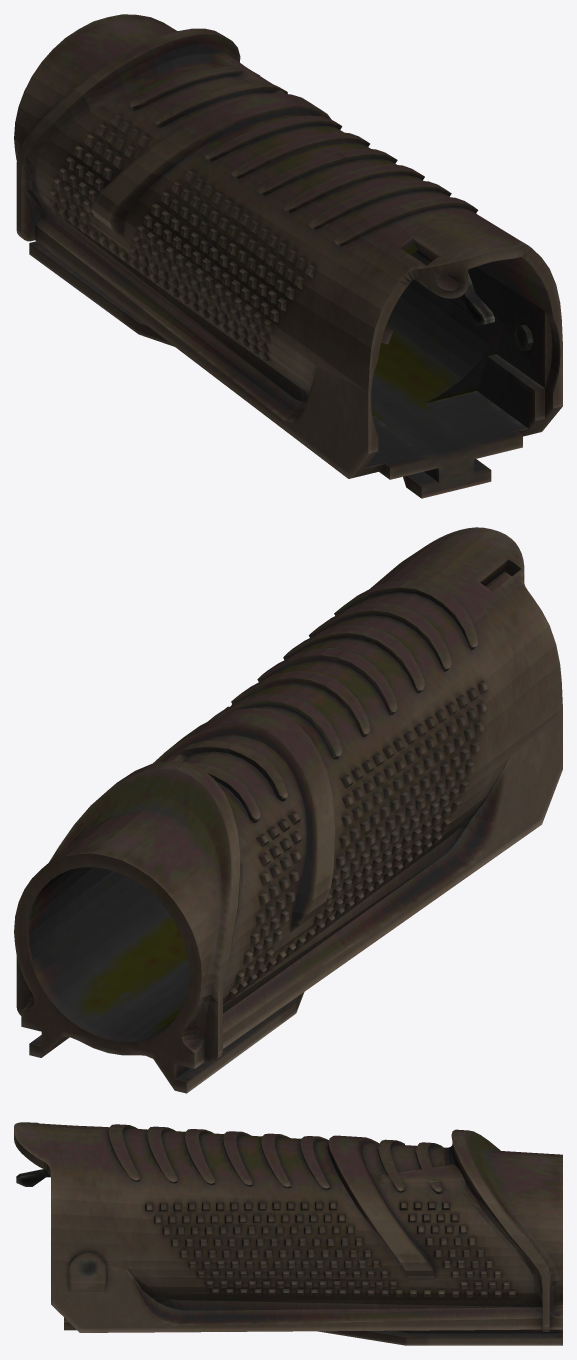
The picture shows the model from 3 angles, top to bottom: view 1: azimuth 30°, elevation 25°; view 2: azimuth 150°, elevation 25°; view 3: azimuth 270°, elevation 25°; orthographic projection. The views are drawn at different scales.
Visible parts, largest first — view 1: TW_5e81ebcd8e146c7080625e15_PZ_Import; view 2: TW_5e81ebcd8e146c7080625e15_PZ_Import; view 3: TW_5e81ebcd8e146c7080625e15_PZ_Import.
Part boxes in pixels (x1=…): TW_5e81ebcd8e146c7080625e15_PZ_Import: x1=14, y1=14, x2=562, y2=498; TW_5e81ebcd8e146c7080625e15_PZ_Import: x1=14, y1=527, x2=562, y2=1093; TW_5e81ebcd8e146c7080625e15_PZ_Import: x1=14, y1=1122, x2=562, y2=1345.
Size of the model in its own units: 0.0364 by 0.1103 by 0.042.
Materials: 1 (1 with a texture image).
